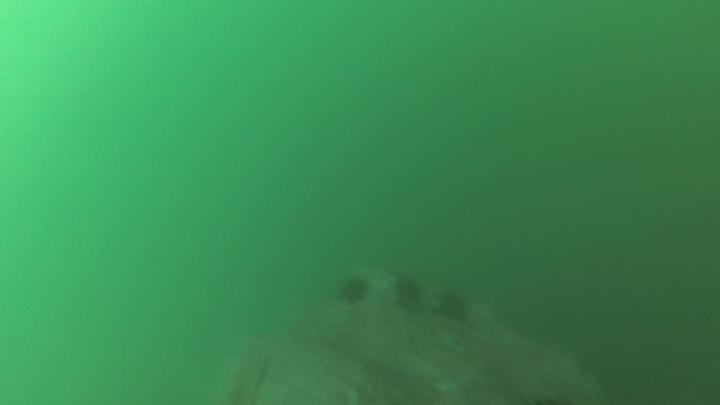echinus: (433, 286, 472, 324), (335, 273, 372, 307), (391, 273, 425, 310)
